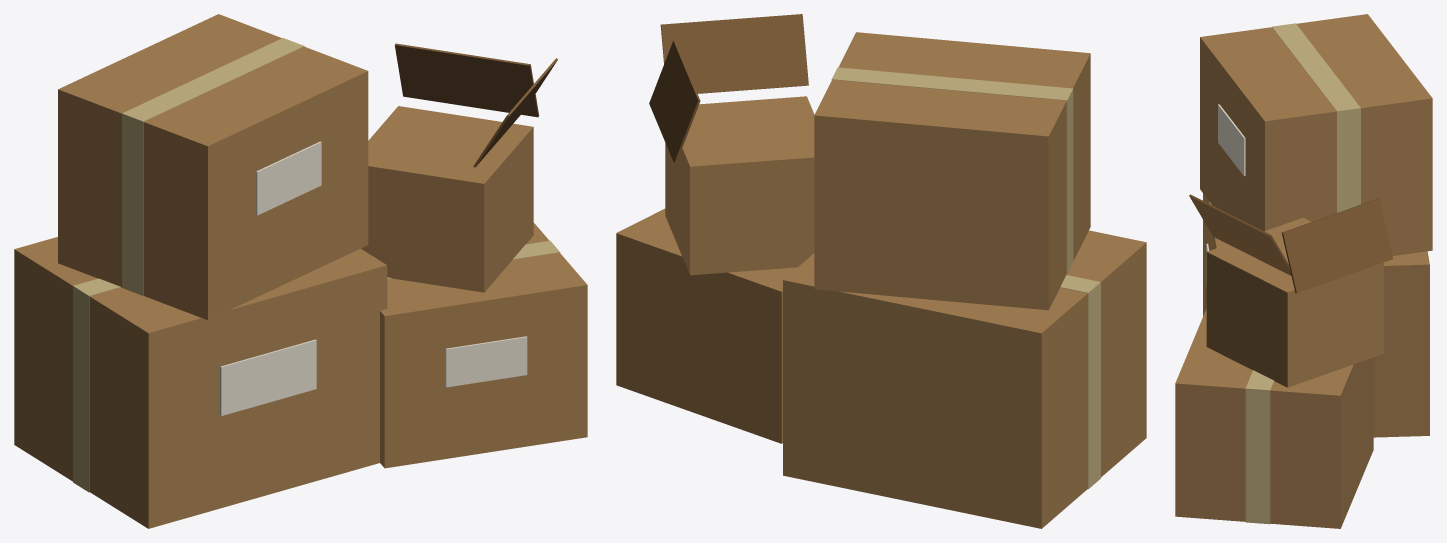
File: box_pile_a.glb
The picture shows the model from 3 angles, left to right: view 1: azimuth 30°, elevation 25°; view 2: azimuth 150°, elevation 25°; view 3: azimuth 270°, elevation 25°; orthographic projection. The views are drawn at different scales.
Visible parts, largest first — view 1: BoxPileA; view 2: BoxPileA; view 3: BoxPileA.
Boxes of the visible parts, x1,y1,x2,y2 form: BoxPileA: (14, 14, 587, 528); BoxPileA: (616, 14, 1146, 528); BoxPileA: (1175, 14, 1432, 528).
Size of the model in its own units: 1.12 by 0.852 by 0.613.
